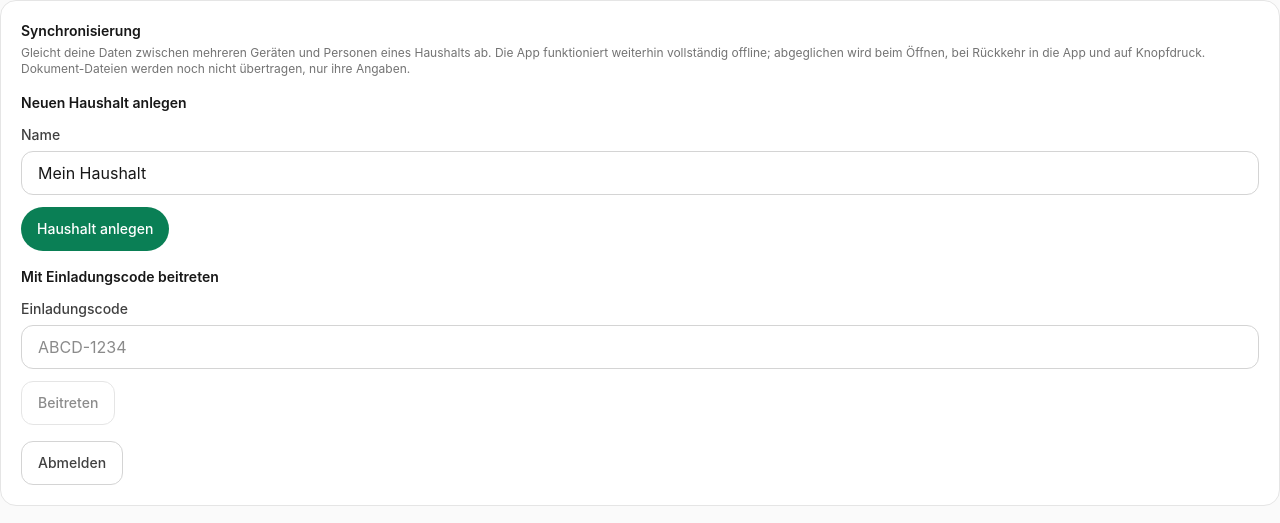
Test case: SyncSettings › offers merge or replace when joining with local data, and cancelling changes nothing
In the field labelled "Einladungscode": (640, 347) [21, 325, 1259, 369], type "abcd-1234"
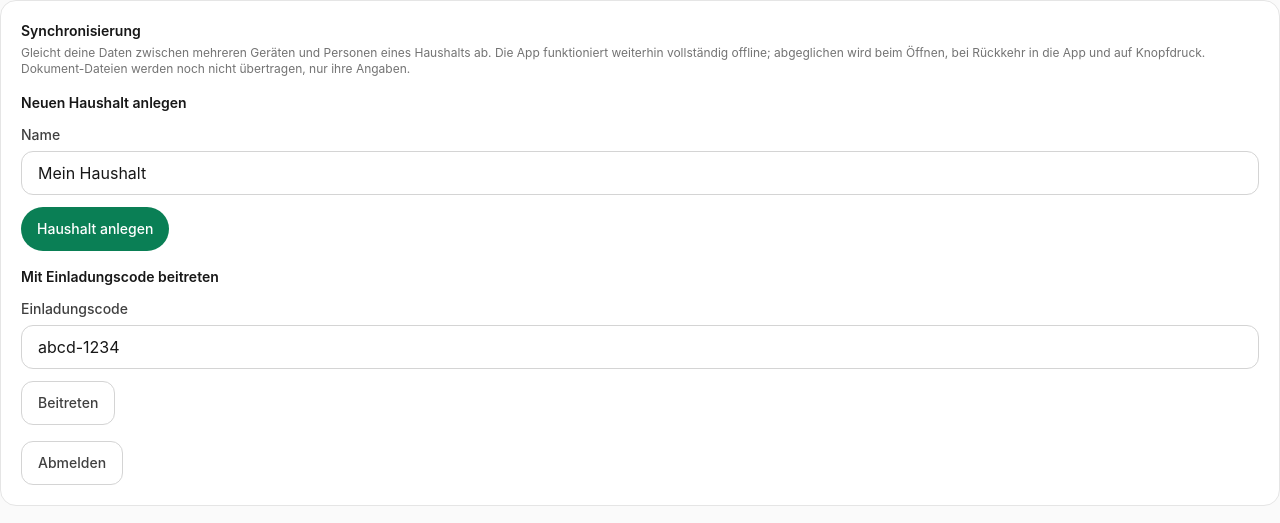
Click the button "Beitreten": (68, 403) [21, 381, 115, 425]
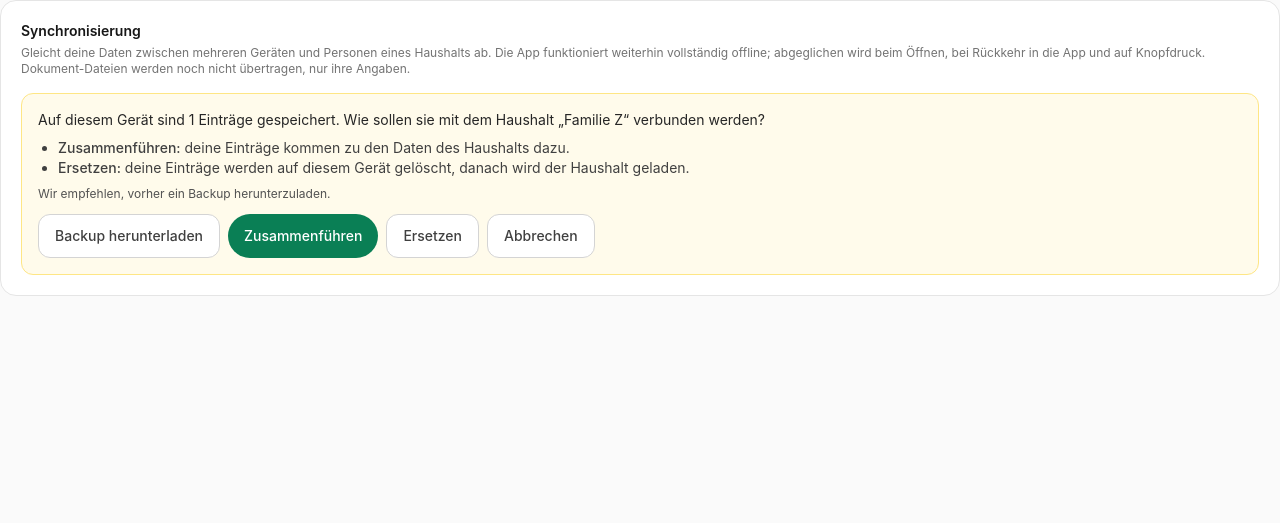
Expected: the button "Ersetzen" is shown, [386, 214, 479, 258]
Expected: the button "Zusammenführen" is shown, [228, 214, 378, 258]
Click the button "Abbrechen": (541, 236) [487, 214, 595, 258]
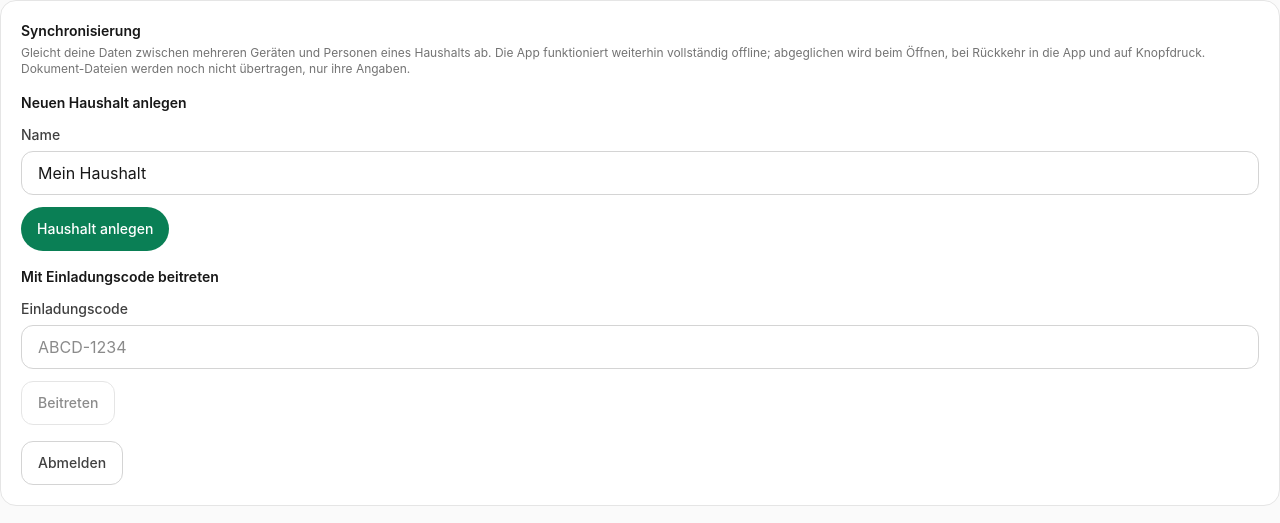
Expected: the button "Haushalt anlegen" is shown, [21, 207, 169, 251]
